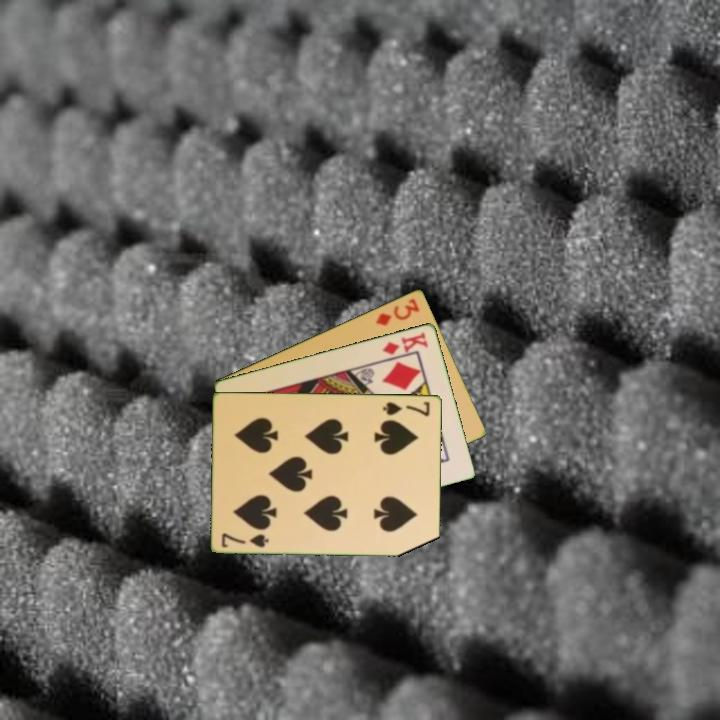3d: (372, 294, 423, 329)
7s: (379, 398, 433, 419), (218, 529, 272, 550)
Kd: (379, 328, 431, 357)
